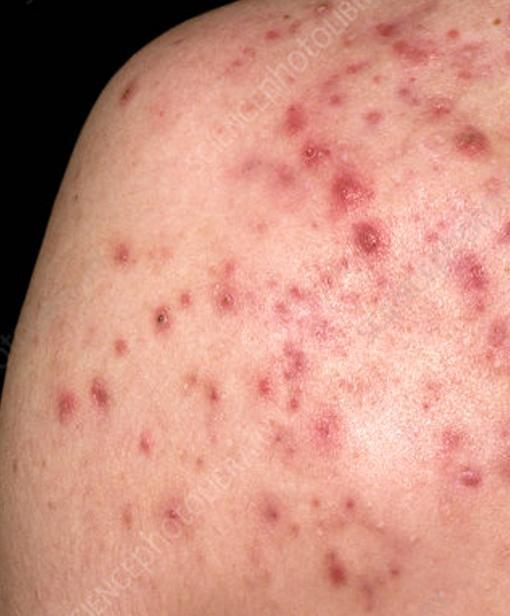papular: (252, 283, 371, 447), (322, 165, 380, 220), (452, 249, 504, 309), (383, 28, 444, 74), (151, 489, 198, 542), (345, 228, 394, 268), (291, 137, 338, 178), (458, 120, 493, 174), (82, 368, 116, 417), (212, 275, 245, 321), (52, 391, 81, 433), (146, 301, 174, 338)
whitehead: (307, 508, 339, 558), (373, 512, 396, 544), (180, 378, 200, 401), (410, 535, 420, 549), (298, 385, 306, 393)
